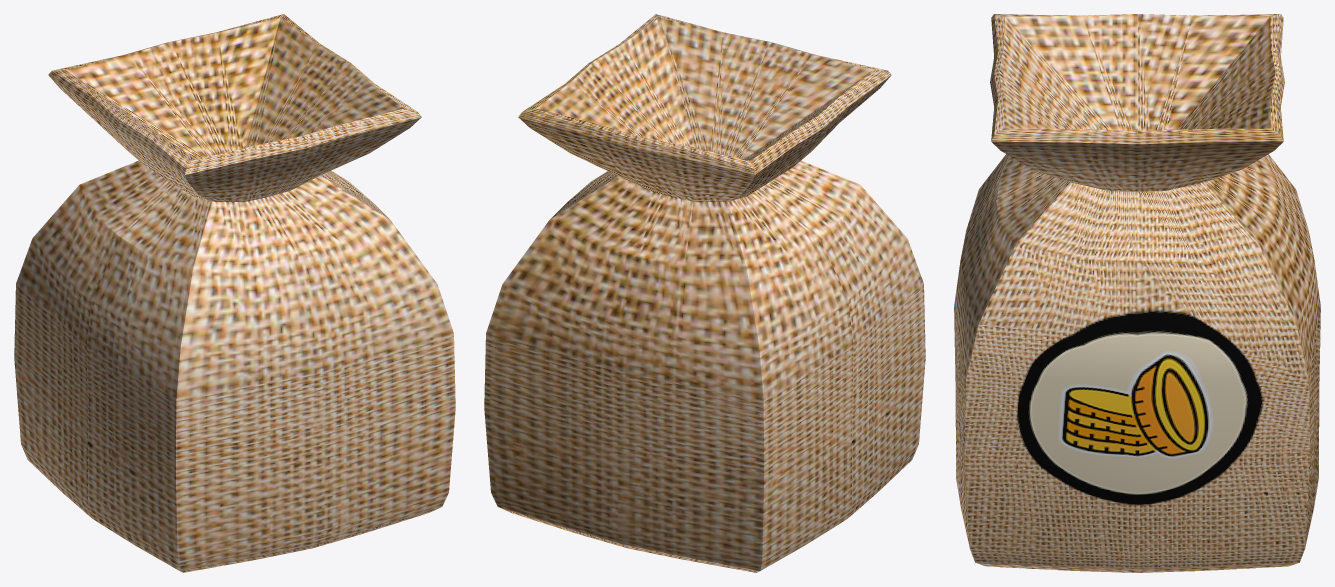
File: Coins.fbx
3 renders of one model, left to right at view 1: azimuth 30°, elevation 25°; view 2: azimuth 150°, elevation 25°; view 3: azimuth 270°, elevation 25°, orthographic. The views are drawn at different scales.
Visible parts, largest first — view 1: Sphere.006; view 2: Sphere.006; view 3: Sphere.006.
Part boxes in pixels (x1,y1,x2,y2): Sphere.006: (14,14,455,572); Sphere.006: (484,14,925,572); Sphere.006: (954,14,1320,572).
Bounding box in the file's own units: 152 × 205 × 152.
